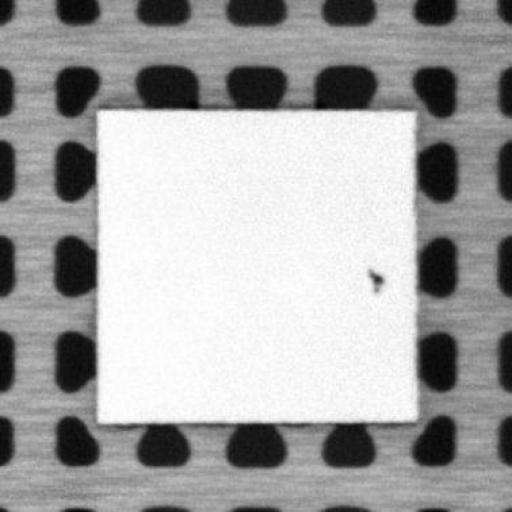DIE_INK: (363, 268, 385, 293)
